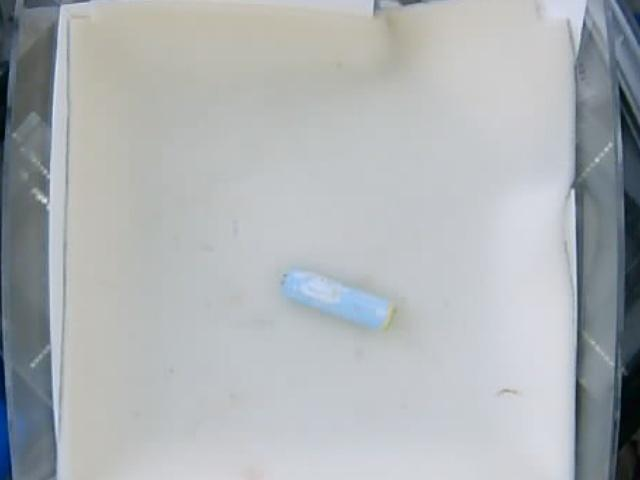Battery: (279, 267, 397, 328)
